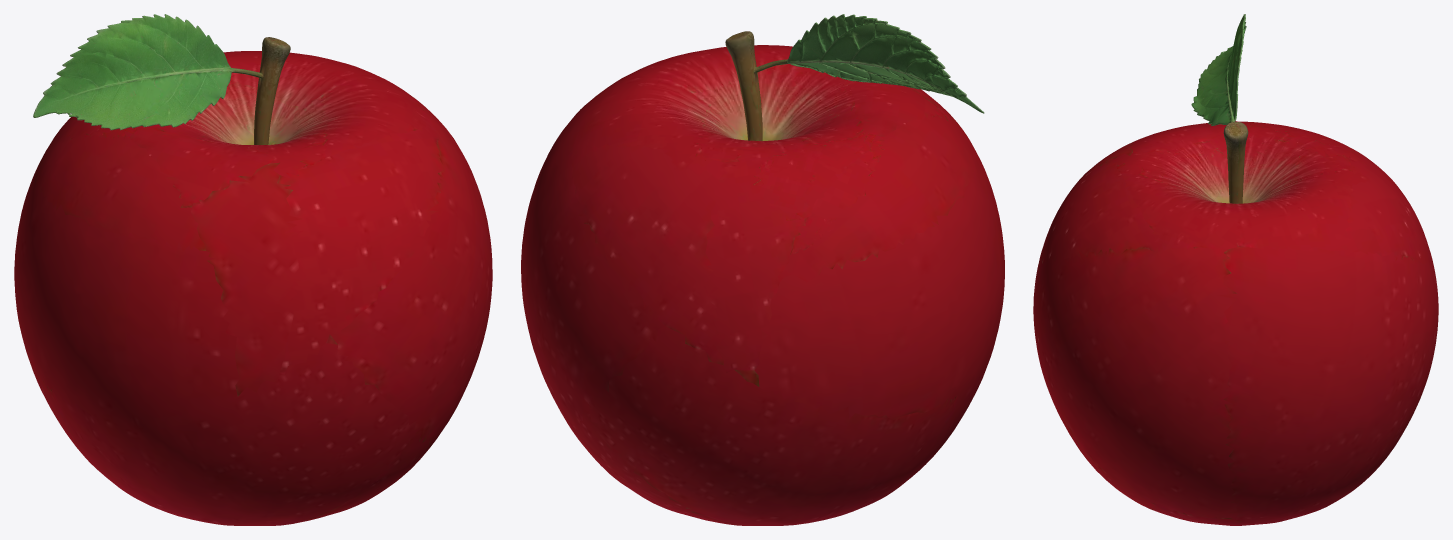
Rendered from apple.glb.
The picture shows the model from 3 angles, left to right: view 1: azimuth 30°, elevation 25°; view 2: azimuth 150°, elevation 25°; view 3: azimuth 270°, elevation 25°; orthographic projection. The views are drawn at different scales.
Bounding box in the file's own units: 1.73 × 1.9 × 1.68.
1 material, 1 textured.
